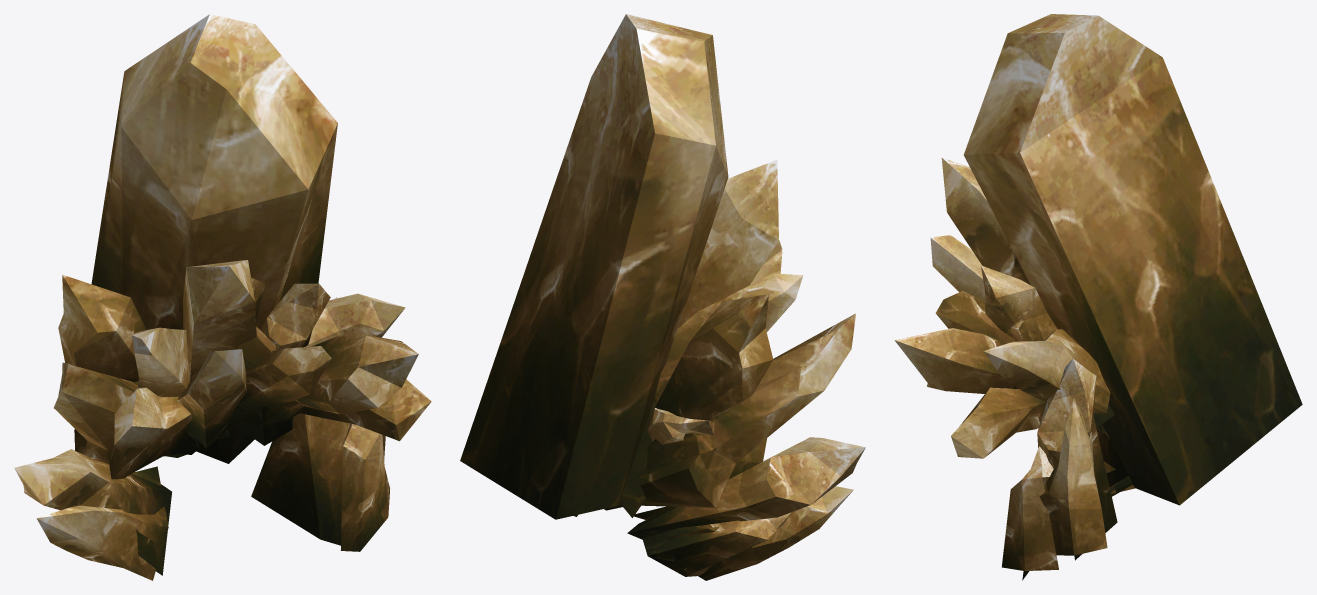
Rendered from environment_stone_shuijing_001_c.FBX.
3 renders of one model, left to right at view 1: azimuth 30°, elevation 25°; view 2: azimuth 150°, elevation 25°; view 3: azimuth 270°, elevation 25°, orthographic. The views are drawn at different scales.
Parts seen in each view (by area): view 1: environment_stone_shuijing_001_c; view 2: environment_stone_shuijing_001_c; view 3: environment_stone_shuijing_001_c.
Part boxes in pixels (x1=…): environment_stone_shuijing_001_c: x1=14, y1=14, x2=431, y2=580; environment_stone_shuijing_001_c: x1=460, y1=14, x2=865, y2=580; environment_stone_shuijing_001_c: x1=894, y1=14, x2=1302, y2=580.
Bounding box in the file's own units: 210 × 287 × 205.
Materials: 1 (1 with a texture image).
